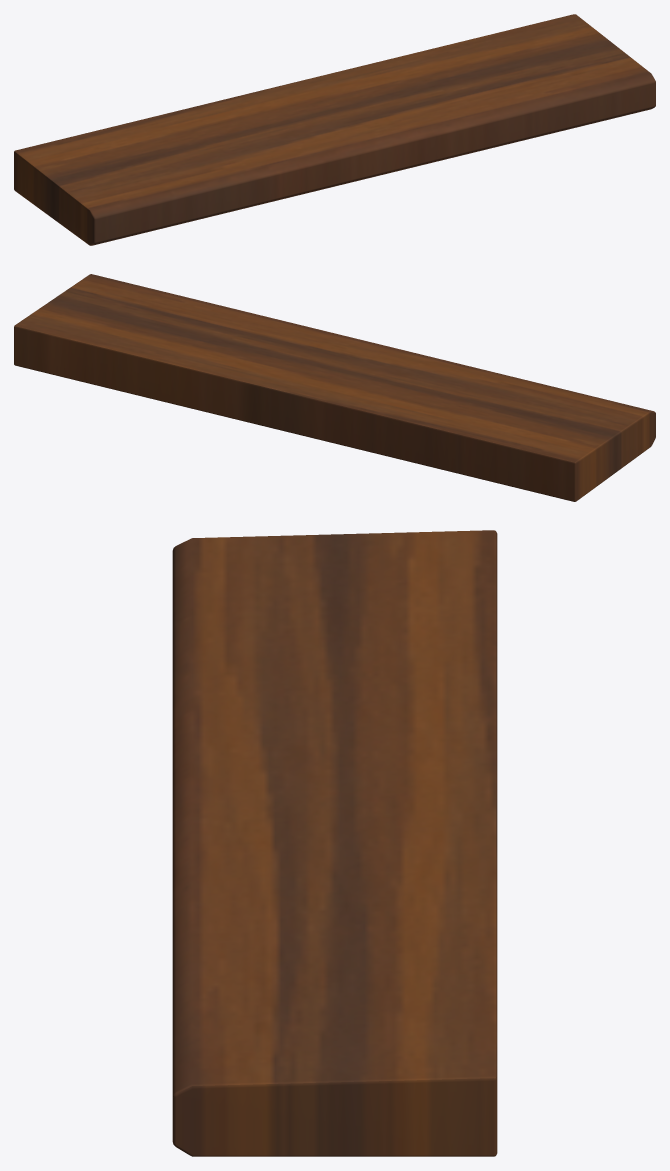
File: CM_PairedWindowBay02_Sill.fbx
3 renders of one model, top to bottom at view 1: azimuth 30°, elevation 25°; view 2: azimuth 150°, elevation 25°; view 3: azimuth 270°, elevation 25°, orthographic. The views are drawn at different scales.
Visible parts, largest first — view 1: CM_PairedWindowBay02_Sill_Geometry; view 2: CM_PairedWindowBay02_Sill_Geometry; view 3: CM_PairedWindowBay02_Sill_Geometry.
Boxes of the visible parts, left/top/right/bottom form: CM_PairedWindowBay02_Sill_Geometry: left=14, top=14, right=655, bottom=245; CM_PairedWindowBay02_Sill_Geometry: left=14, top=274, right=655, bottom=501; CM_PairedWindowBay02_Sill_Geometry: left=172, top=530, right=497, bottom=1156.
Size of the model in its own units: 2.04 by 0.1398 by 0.51.
